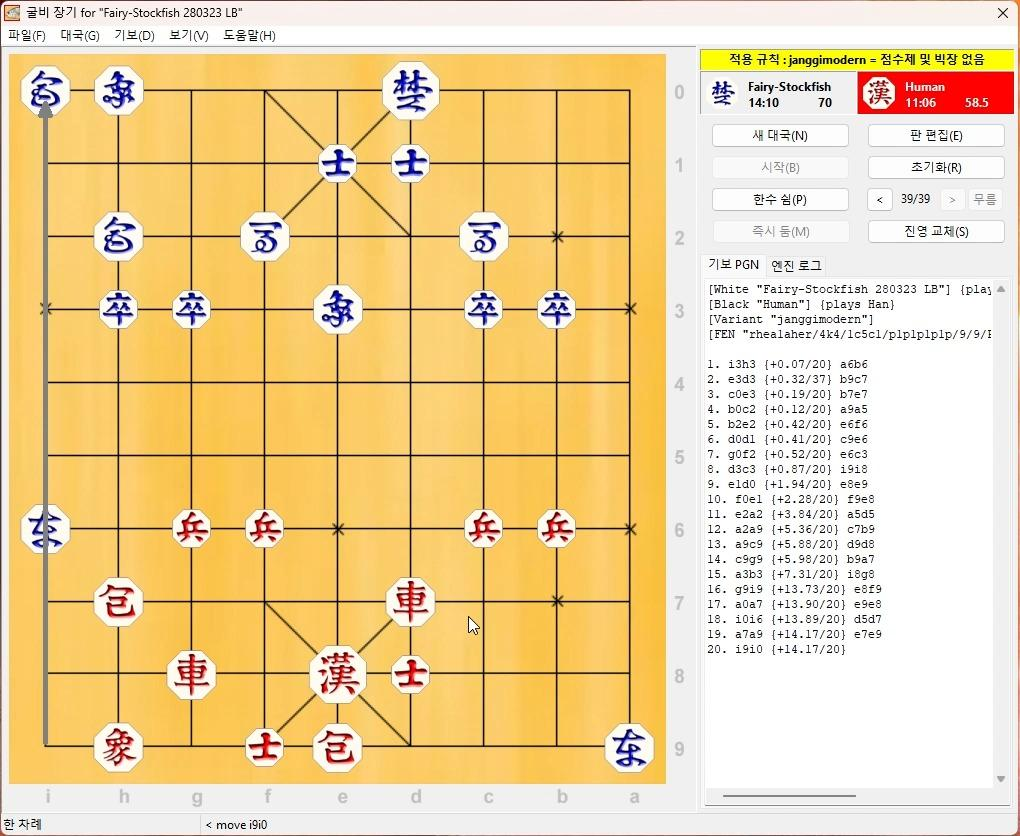cha_green: (20, 506, 71, 556), (606, 724, 653, 771)
cha_red: (166, 653, 216, 699), (387, 578, 435, 624)
jol_green: (171, 292, 210, 328), (537, 293, 576, 329), (466, 293, 504, 329), (98, 293, 136, 328)
jol_red: (537, 510, 578, 550), (172, 507, 211, 547), (243, 512, 283, 548), (464, 511, 501, 548)
ma_green: (459, 214, 507, 260), (242, 216, 291, 261)
po_green: (93, 214, 142, 259), (21, 70, 70, 114)
po_red: (315, 725, 363, 770), (92, 580, 141, 624)
sa_green: (319, 144, 359, 184), (391, 145, 430, 184)
sa_red: (245, 729, 286, 763), (392, 658, 430, 692)
sang_green: (96, 68, 145, 114), (315, 286, 363, 330)
sang_red: (93, 724, 142, 774)
wang_green: (382, 64, 439, 118)
wang_red: (309, 646, 368, 698)
